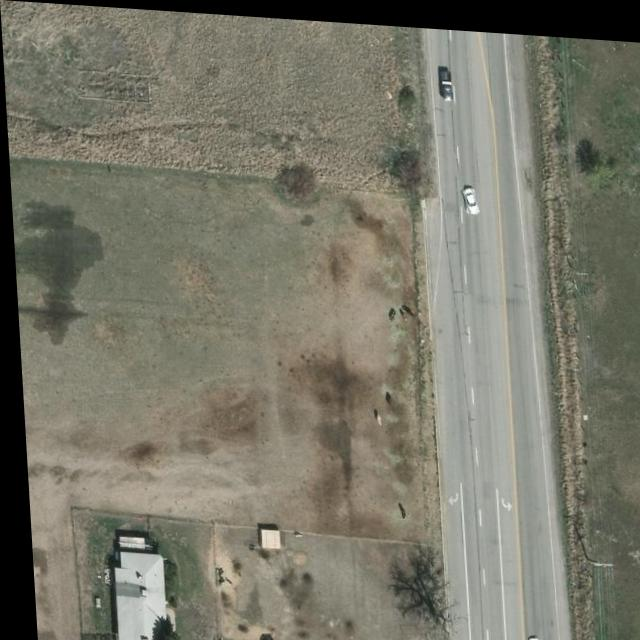vehicle: (459, 180, 478, 209), (439, 64, 452, 95), (521, 630, 536, 640)
